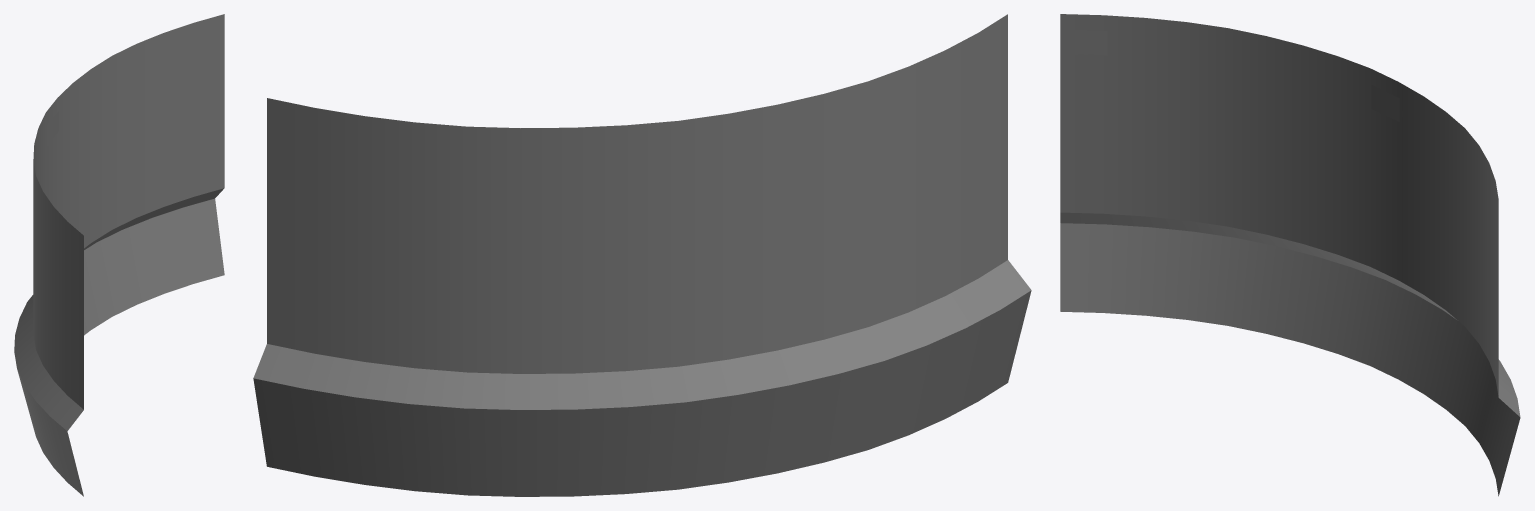
Rendered from q-scifi-mod-wallband-corner-round-inner.glb.
3 renders of one model, left to right at view 1: azimuth 30°, elevation 25°; view 2: azimuth 150°, elevation 25°; view 3: azimuth 270°, elevation 25°, orthographic. The views are drawn at different scales.
Parts seen in each view (by area): view 1: WallBand_Corner_Round_Inner; view 2: WallBand_Corner_Round_Inner; view 3: WallBand_Corner_Round_Inner.
Boxes of the visible parts, <box> form: WallBand_Corner_Round_Inner: <box>14,14,224,496</box>; WallBand_Corner_Round_Inner: <box>253,14,1031,496</box>; WallBand_Corner_Round_Inner: <box>1060,14,1520,496</box>.
Bounding box in the file's own units: 4.2 × 3 × 4.2.
3 materials, 3 textured.
